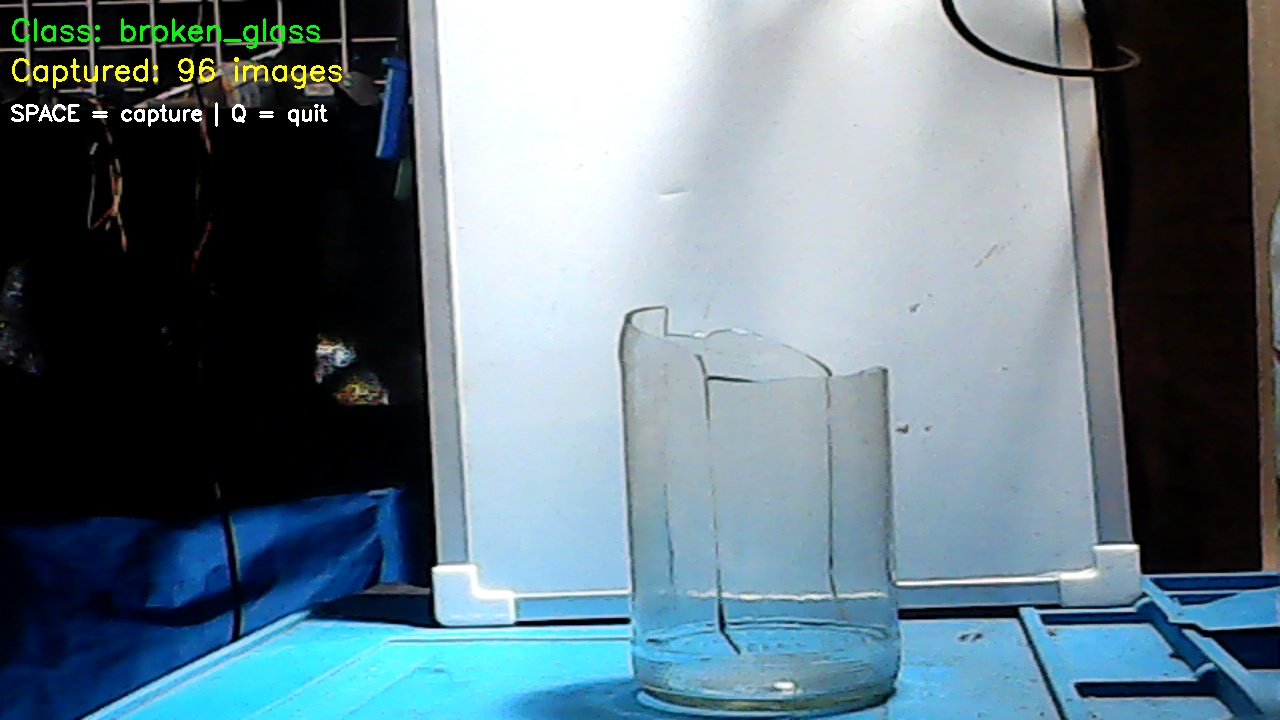broken_glass: (600, 231, 904, 714)
